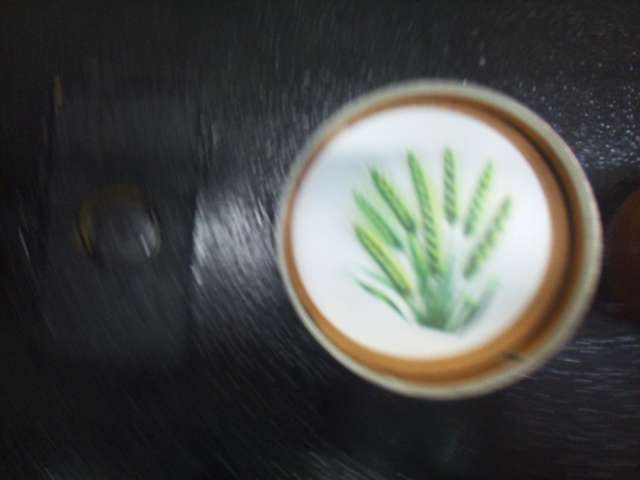wheat_barrel: (342, 131, 520, 347)
